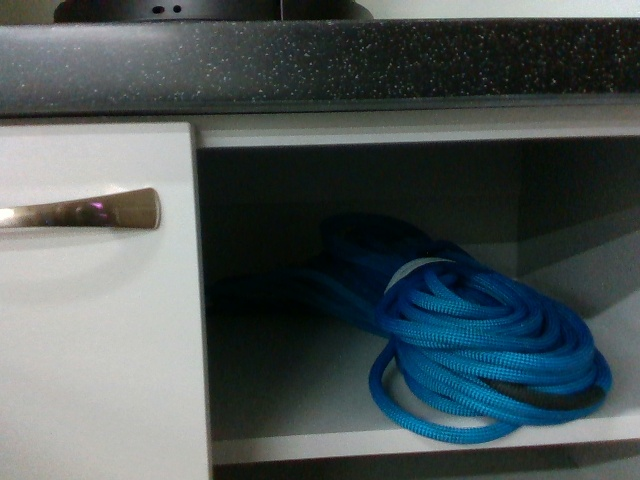rope: (370, 251, 608, 432)
